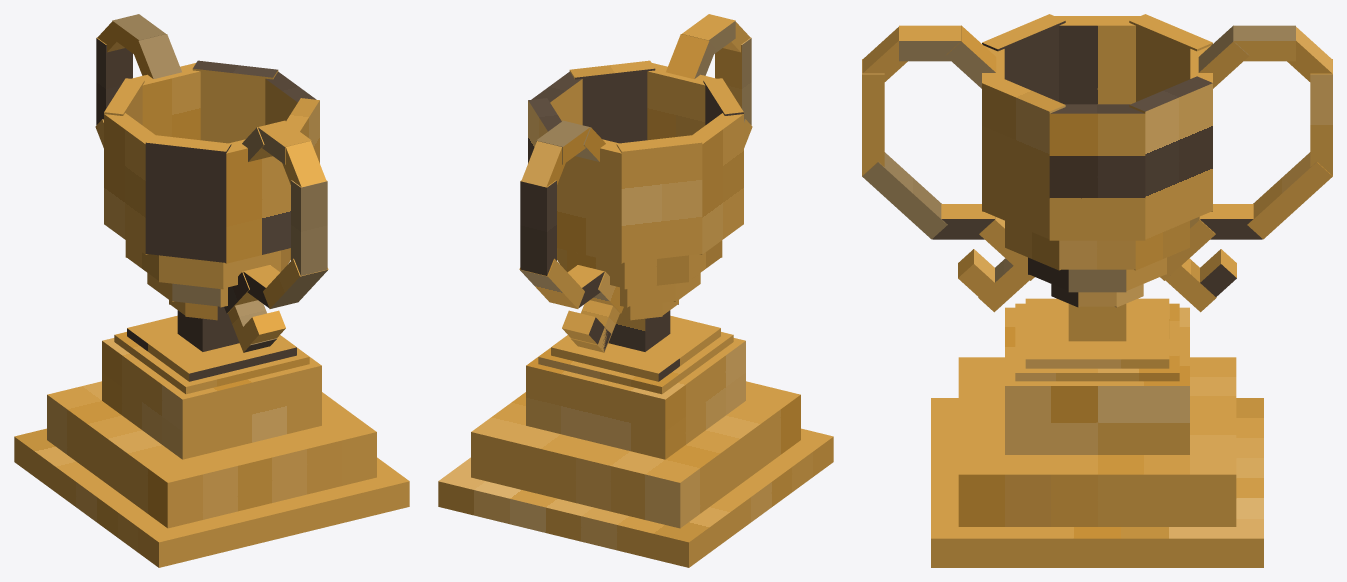
The model's file is Trophy.glb.
The picture shows the model from 3 angles, left to right: view 1: azimuth 30°, elevation 25°; view 2: azimuth 150°, elevation 25°; view 3: azimuth 270°, elevation 25°; orthographic projection. The views are drawn at different scales.
Visible parts, largest first — view 1: unnamed (×30); view 2: unnamed (×30); view 3: unnamed (×37).
Boxes of the visible parts, x1,y1,x2,y2 form: unnamed (×30): (14, 14, 409, 567); unnamed (×30): (438, 14, 833, 567); unnamed (×37): (862, 14, 1332, 567).
Bounding box in the file's own units: 0.45 × 0.6925 × 0.6363.
1 material, 1 textured.
